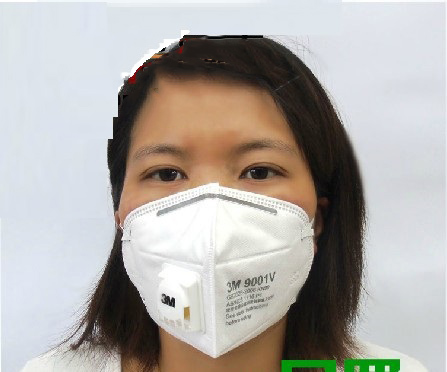face_mask: (118, 81, 315, 315)
